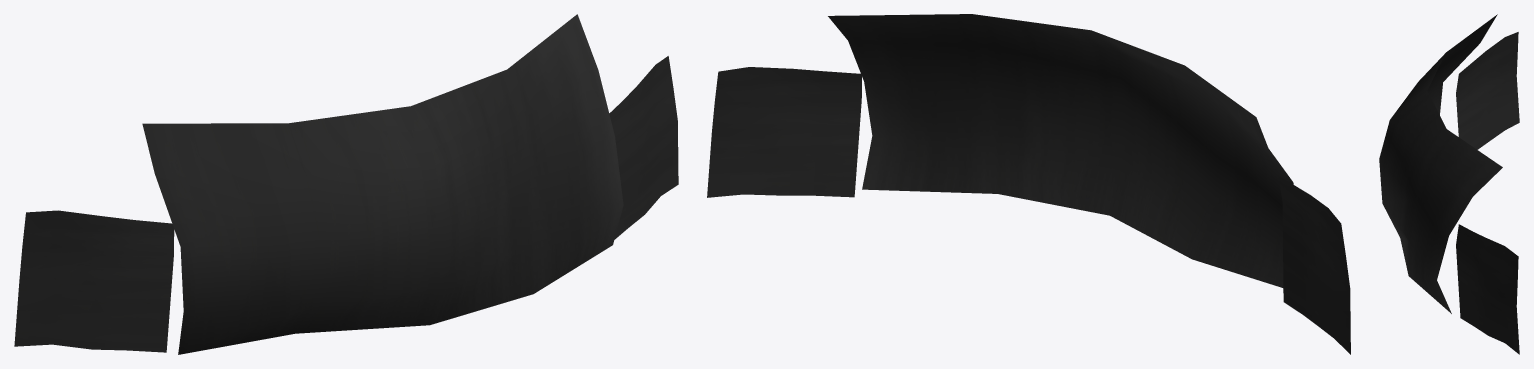
The model's file is rcfVentBacking.obj.
3 views of the same model, side by side, from view 1: azimuth 30°, elevation 25°; view 2: azimuth 150°, elevation 25°; view 3: azimuth 270°, elevation 25° (orthographic). The views are drawn at different scales.
Parts seen in each view (by area): view 1: rcfVentBacking; view 2: rcfVentBacking; view 3: rcfVentBacking.
Boxes of the visible parts, x1,y1,x2,y2 form: rcfVentBacking: (14, 14, 678, 354); rcfVentBacking: (707, 14, 1350, 354); rcfVentBacking: (1379, 14, 1519, 354).
Size of the model in its own units: 170 by 51.26 by 43.51.
1 material, 1 textured.
